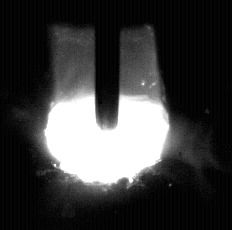arame: (96, 0, 120, 129)
poca: (43, 0, 169, 230)
